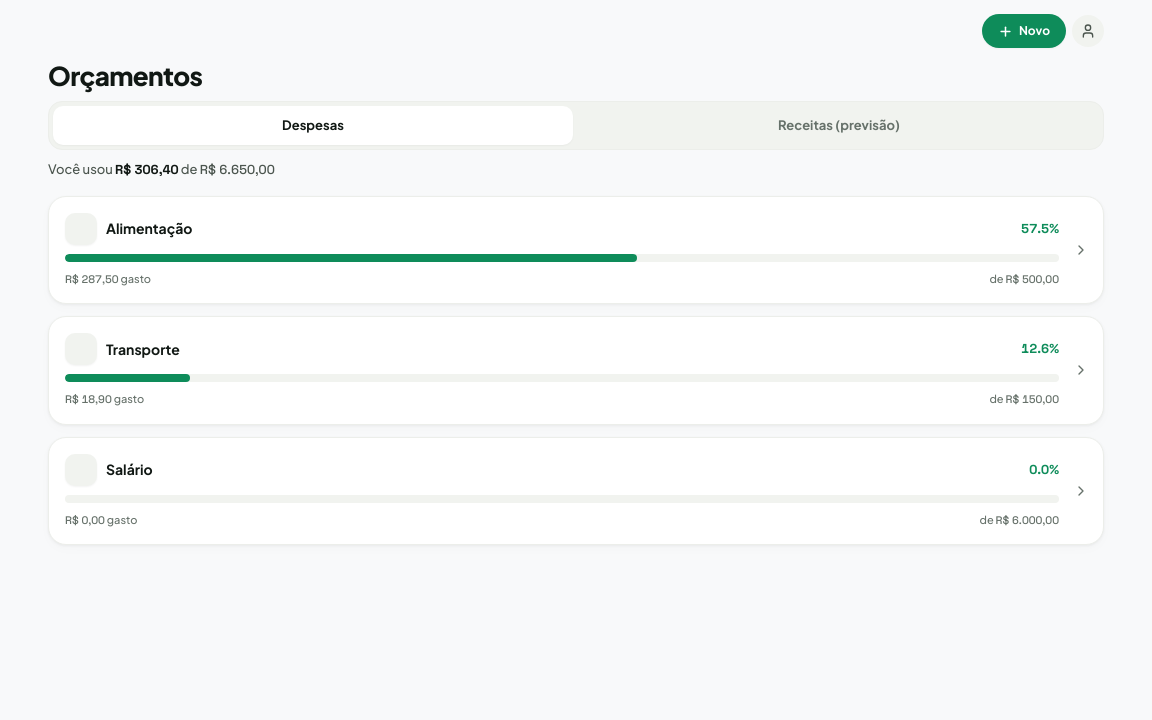
Test: BudgetsPage › edge branches › shows empty-state when no expense categories exist
What coordinates should you click on to do the following:
click the button "Novo"
I would click on:
 (1024, 31)
Its box is [982,14,1066,48].
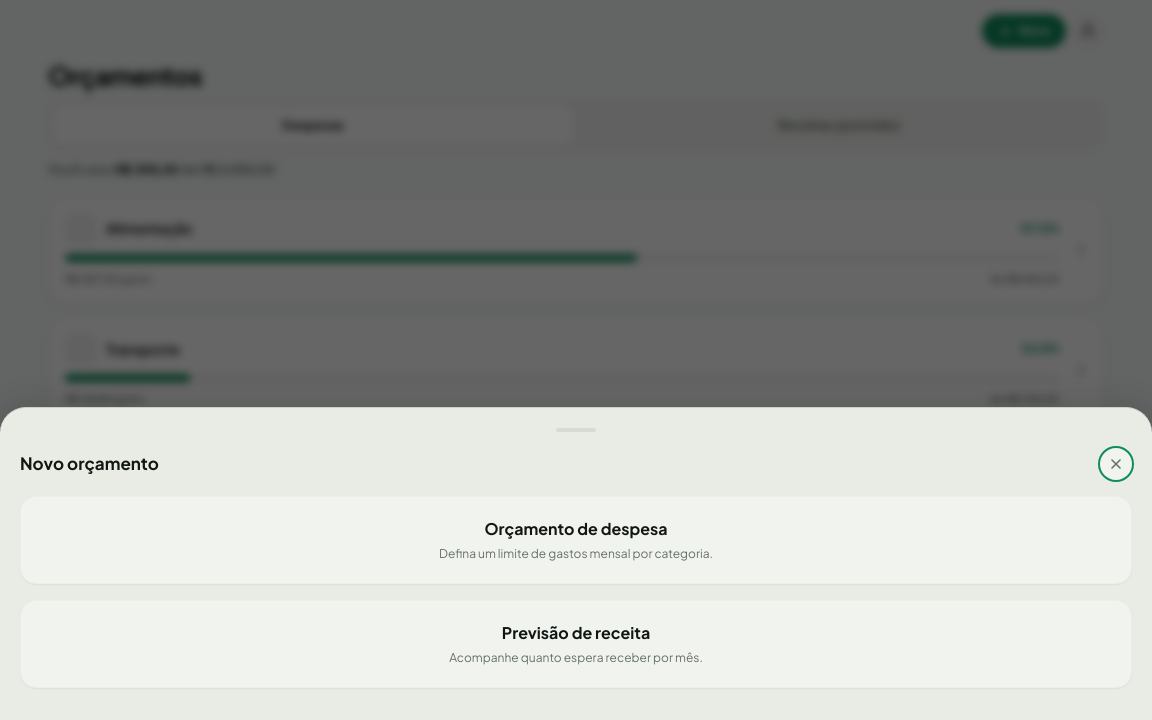
What coordinates should you click on to do the following:
click the text "Orçamento de despesa"
I would click on:
 (576, 528)
Its box is [484,518,668,539].
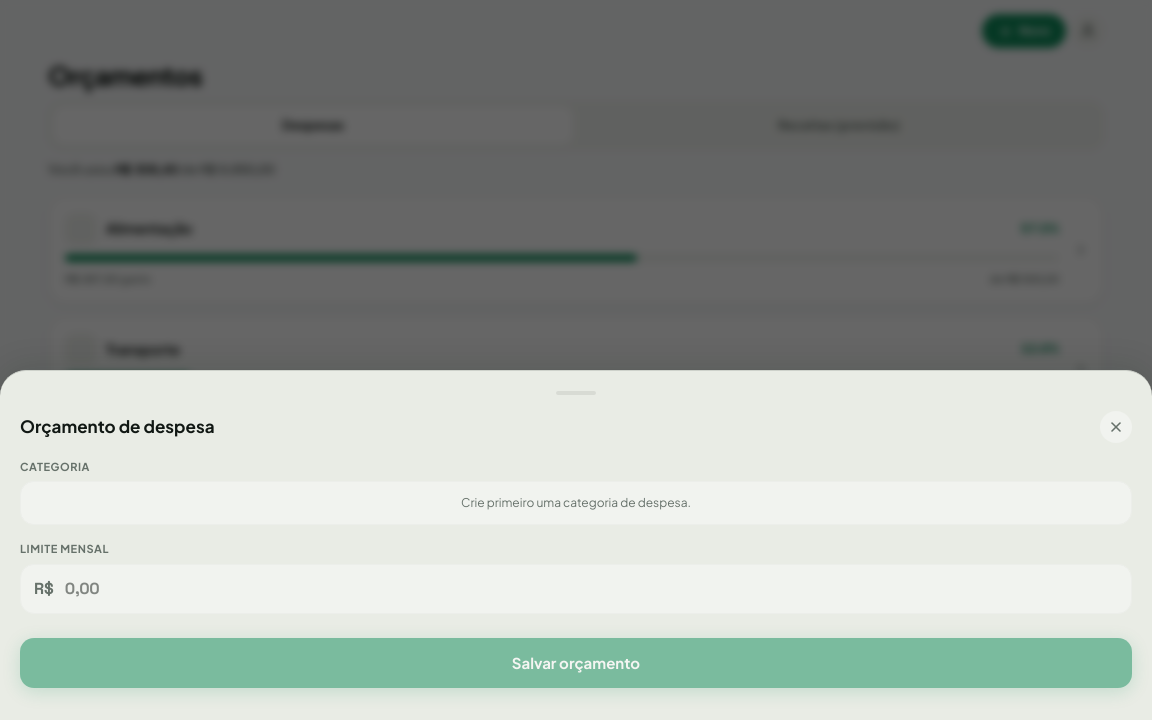
Expected: the text "Crie primeiro uma categoria de despesa." is shown, [20,481,1132,525]
